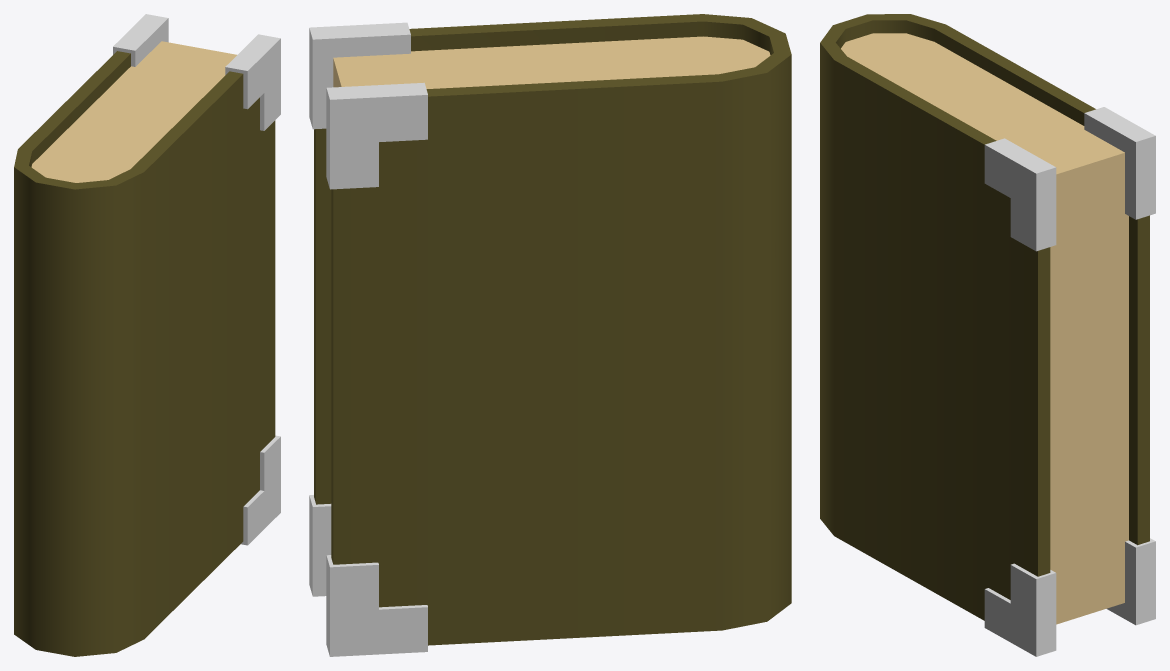
The model's file is obj_Book_03.fbx.
The picture shows the model from 3 angles, left to right: view 1: azimuth 30°, elevation 25°; view 2: azimuth 150°, elevation 25°; view 3: azimuth 270°, elevation 25°; orthographic projection. The views are drawn at different scales.
Parts seen in each view (by area): view 1: Book_03, Paper.002, Book_EdgePattern.011; view 2: Book_03, Book_EdgePattern.011, Paper.002; view 3: Book_03, Paper.002, Book_EdgePattern.011.
Boxes of the visible parts, x1=… form: Book_03: x1=14, y1=51, x2=275, y2=656; Paper.002: x1=31, y1=41, x2=236, y2=182; Book_EdgePattern.011: x1=113, y1=14, x2=280, y2=545; Book_03: x1=314, y1=14, x2=791, y2=645; Book_EdgePattern.011: x1=309, y1=22, x2=427, y2=656; Paper.002: x1=333, y1=36, x2=770, y2=88; Book_03: x1=820, y1=14, x2=1149, y2=620; Paper.002: x1=841, y1=33, x2=1128, y2=624; Book_EdgePattern.011: x1=984, y1=107, x2=1155, y2=656.
Bounding box in the file's own units: 0.2214 × 0.3056 × 0.1924.
